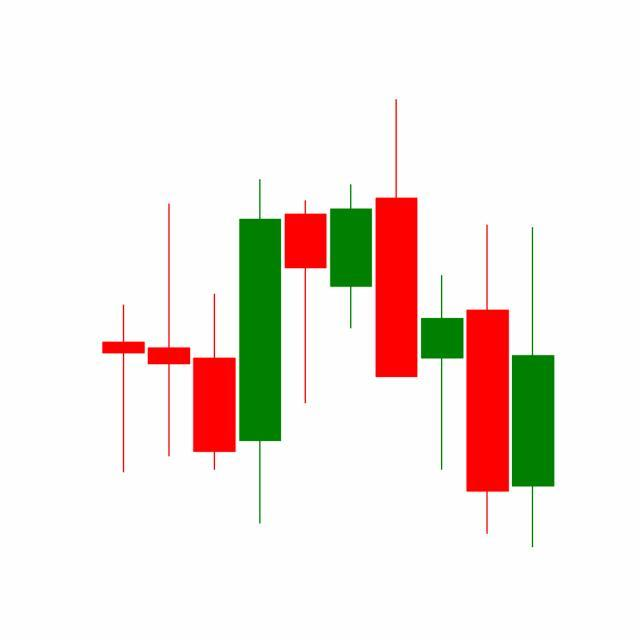Hikkake Pattern: (283, 99, 512, 540)
